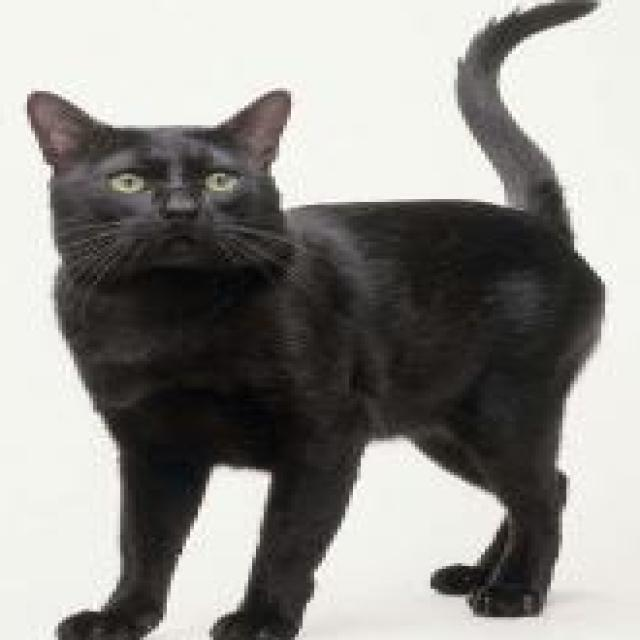Bombay: (19, 0, 605, 640)
